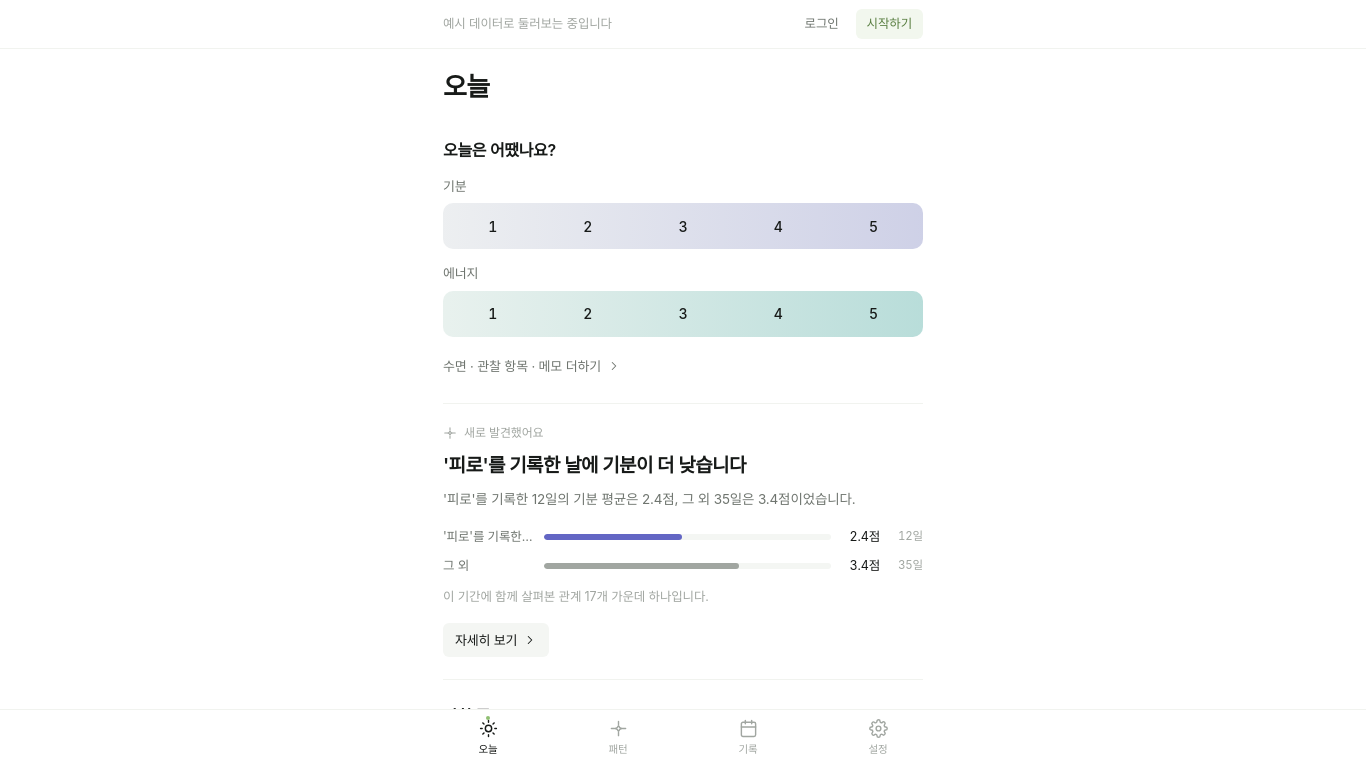
Test case: 로그인 전 첫 화면 › 패턴 상세까지 들어가 볼 수 있습니다
Expected: the heading "오늘" is shown, top-left (443, 71), bottom-right (489, 104)
Click the button "자세히 보기" at (496, 640), box top-left (443, 623), bottom-right (549, 657)
(page scrolled)
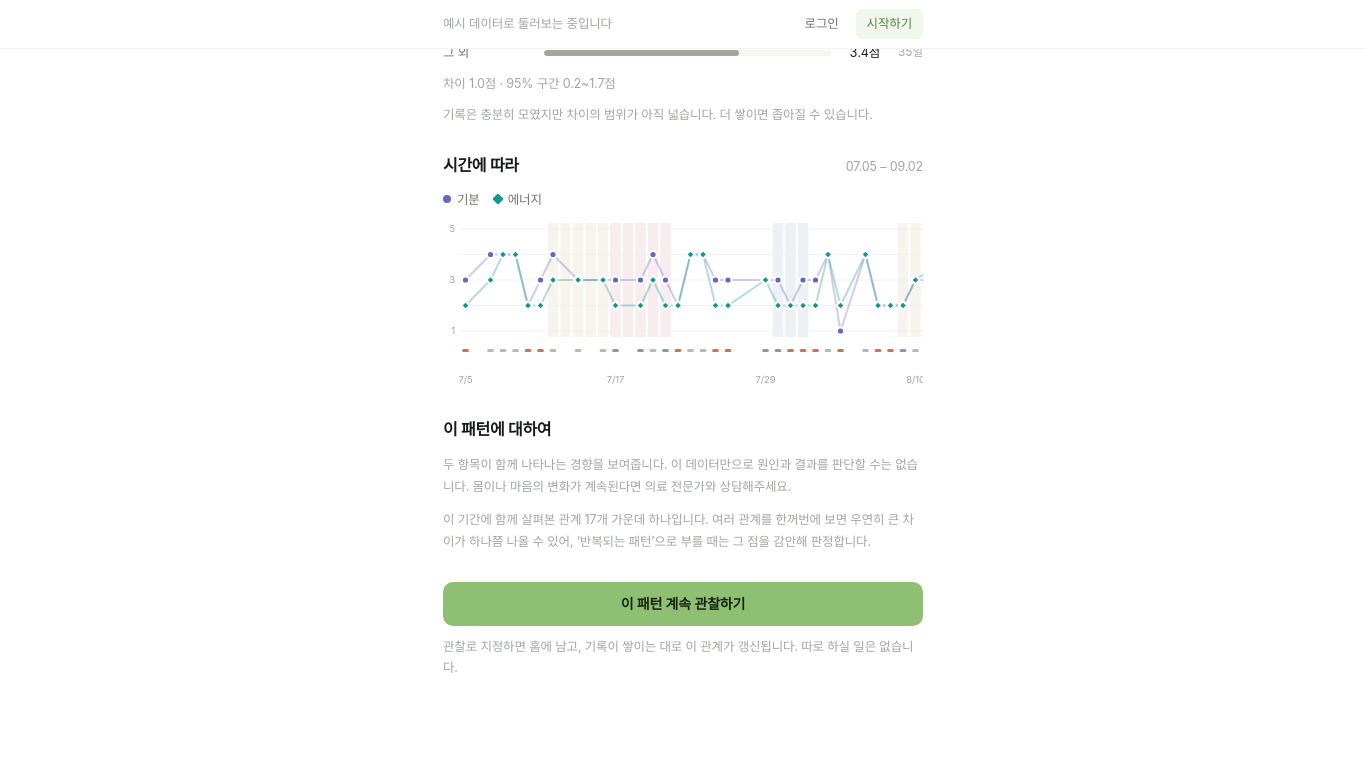
Expected: the text "원인과 결과를 판단할 수는 없습니다" is shown, top-left (443, 457), bottom-right (918, 494)
